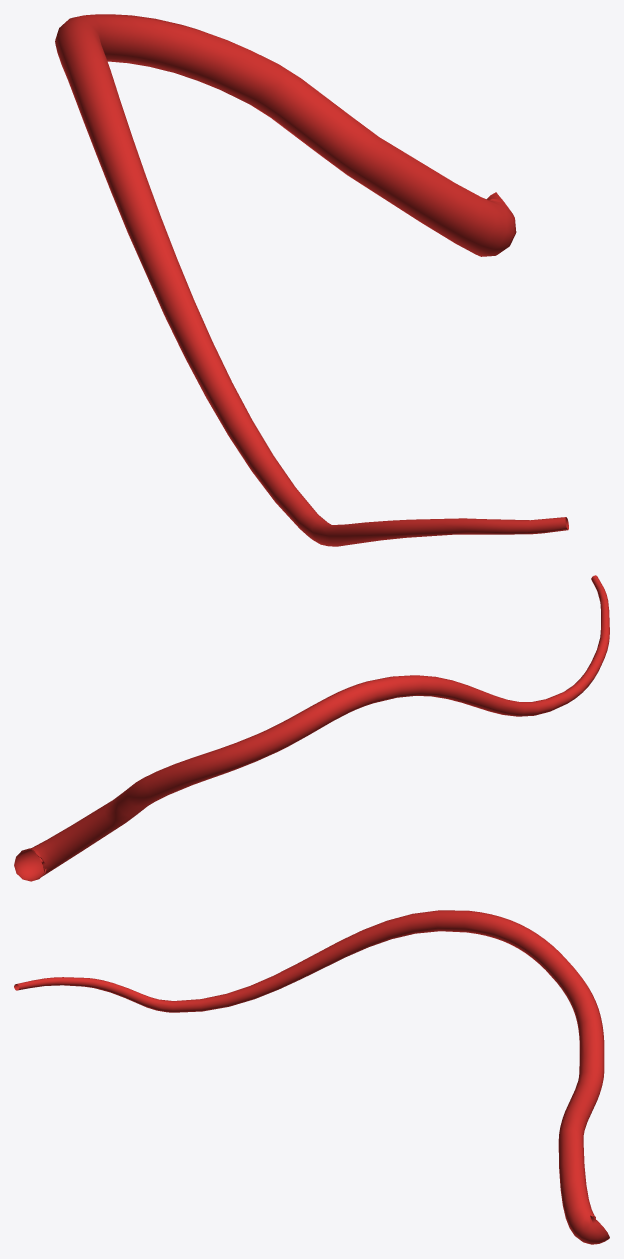
Rendered from circulatorio-inferior-lateral-genicular-artery-r.glb.
3 views of the same model, one above another, from view 1: azimuth 30°, elevation 25°; view 2: azimuth 150°, elevation 25°; view 3: azimuth 270°, elevation 25° (orthographic). The views are drawn at different scales.
Parts seen in each view (by area): view 1: Inferior lateral genicular artery.r; view 2: Inferior lateral genicular artery.r; view 3: Inferior lateral genicular artery.r.
Part boxes in pixels (x1=…): Inferior lateral genicular artery.r: x1=55, y1=14, x2=568, y2=546; Inferior lateral genicular artery.r: x1=14, y1=575, x2=609, y2=881; Inferior lateral genicular artery.r: x1=14, y1=910, x2=609, y2=1244.
Bounding box in the file's own units: 0.0438 × 0.0269 × 0.0708.
